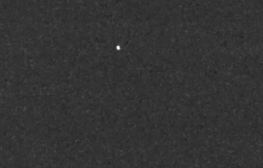Target: (117, 46, 121, 50)
